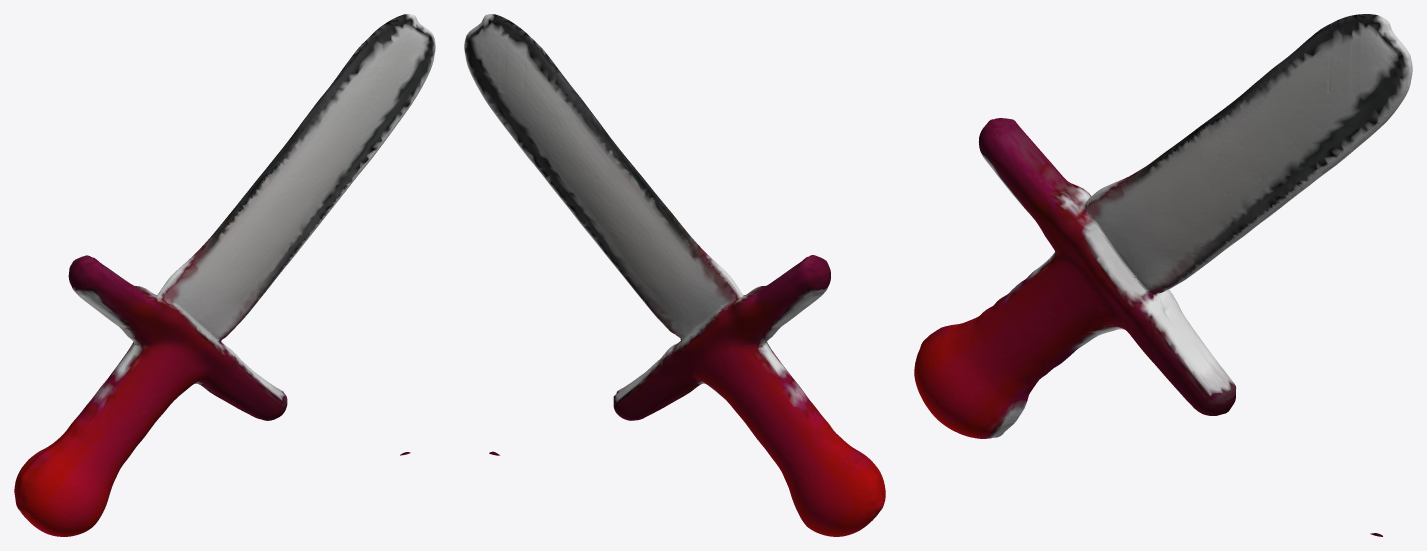
File: sting.glb
3 views of the same model, side by side, from view 1: azimuth 30°, elevation 25°; view 2: azimuth 150°, elevation 25°; view 3: azimuth 330°, elevation 25° (orthographic). The views are drawn at different scales.
Visible parts, largest first — view 1: geometry_0; view 2: geometry_0; view 3: geometry_0.
Part boxes in pixels (bbox=[...]): geometry_0: bbox=[14, 14, 435, 536]; geometry_0: bbox=[464, 14, 885, 536]; geometry_0: bbox=[914, 14, 1412, 536].
Bounding box in the file's own units: 0.4658 × 0.4688 × 0.0647.
